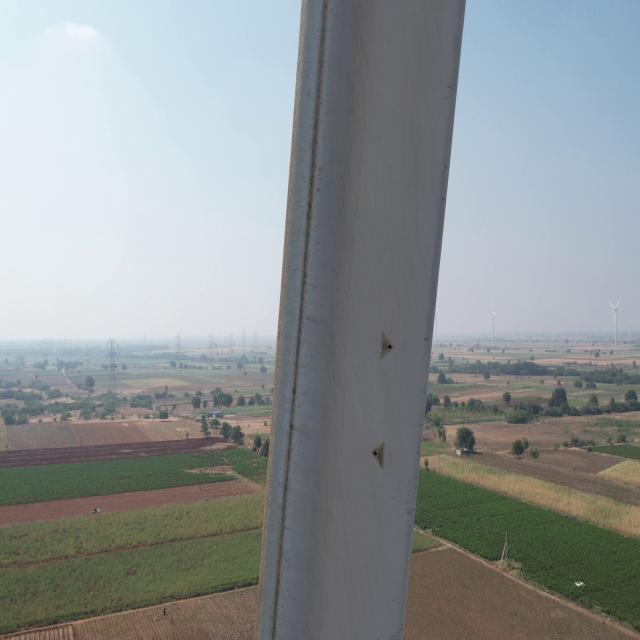Pin Hole: (371, 446, 387, 468), (381, 338, 396, 354)
